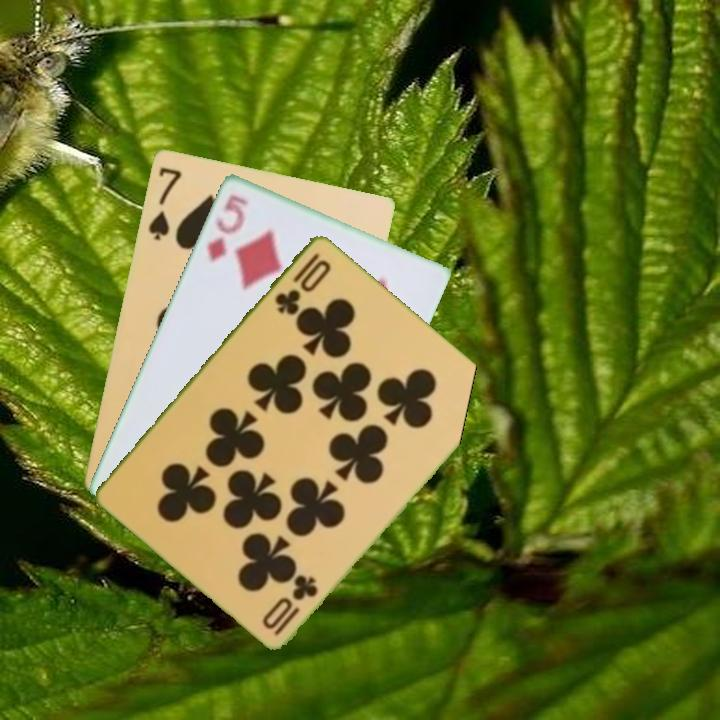10c: (271, 248, 334, 318), (270, 571, 321, 638)
5d: (203, 190, 251, 266)
7s: (144, 163, 184, 243)
